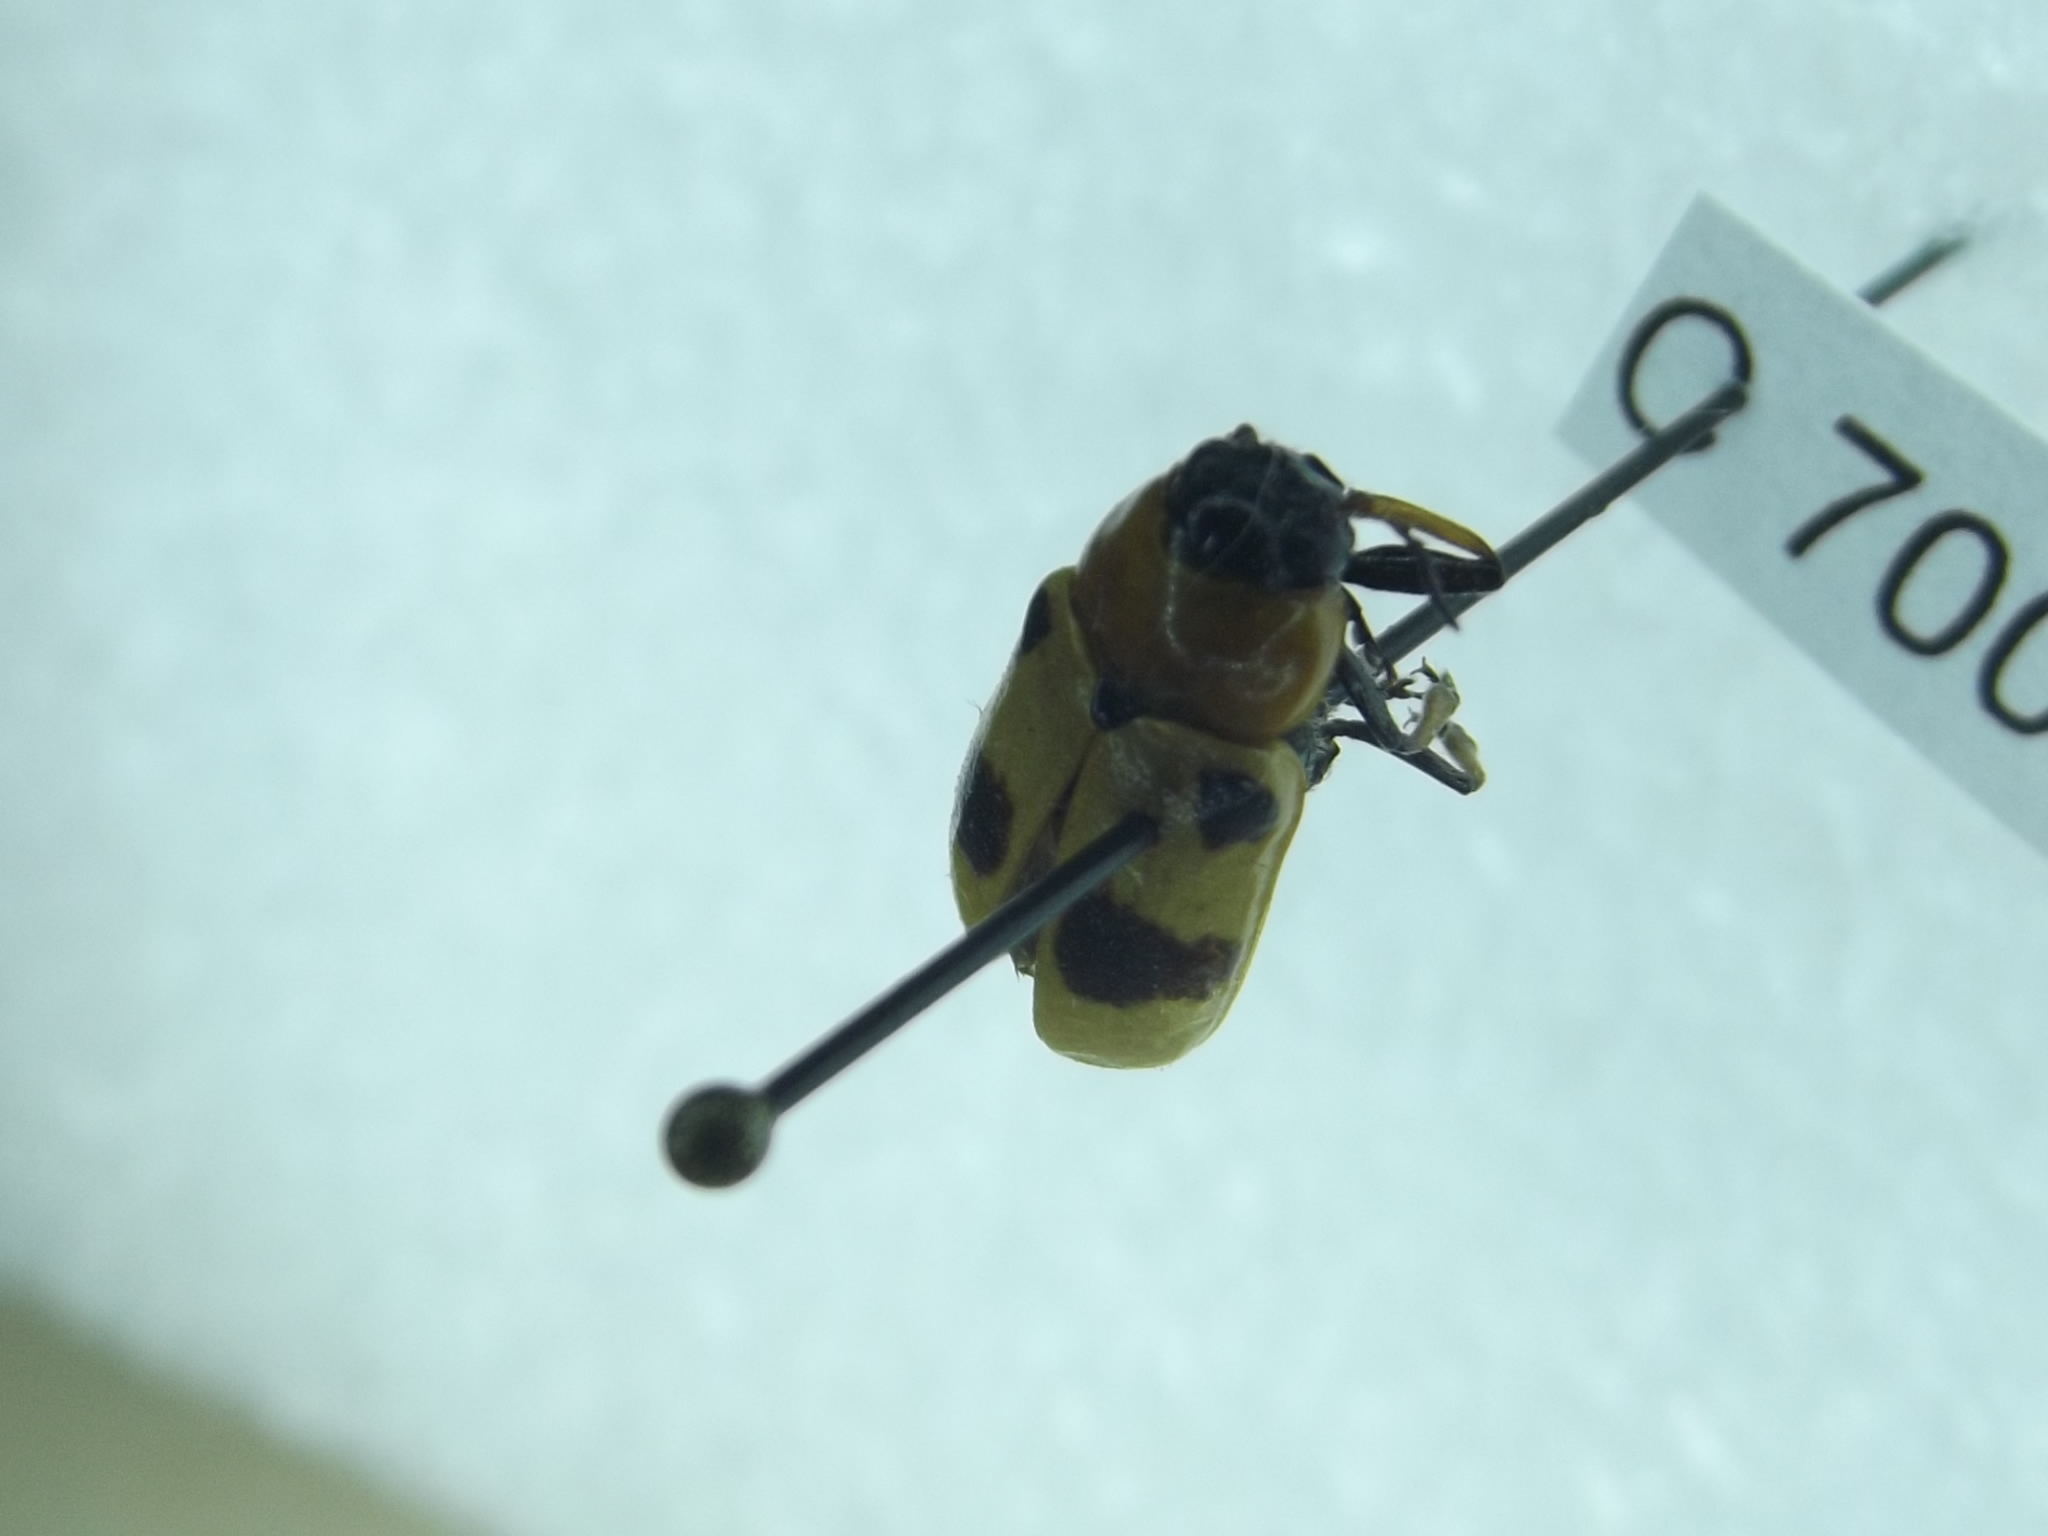Tituboea_macropus: (937, 410, 1508, 1087)
